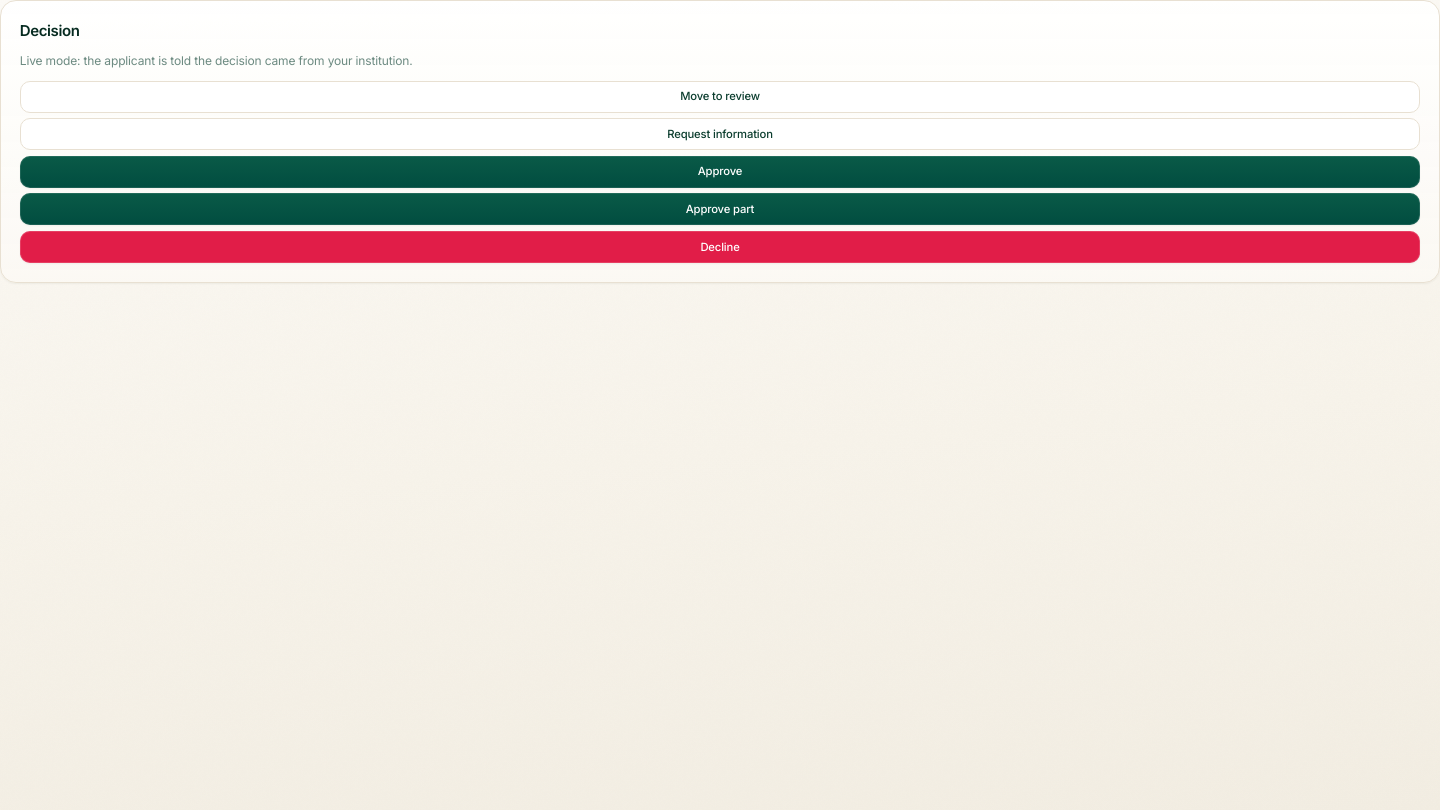
Test: the approval amount › pre-fills with what was requested, and nothing else
Click the button "Approve": (720, 172) [20,156,1420,188]
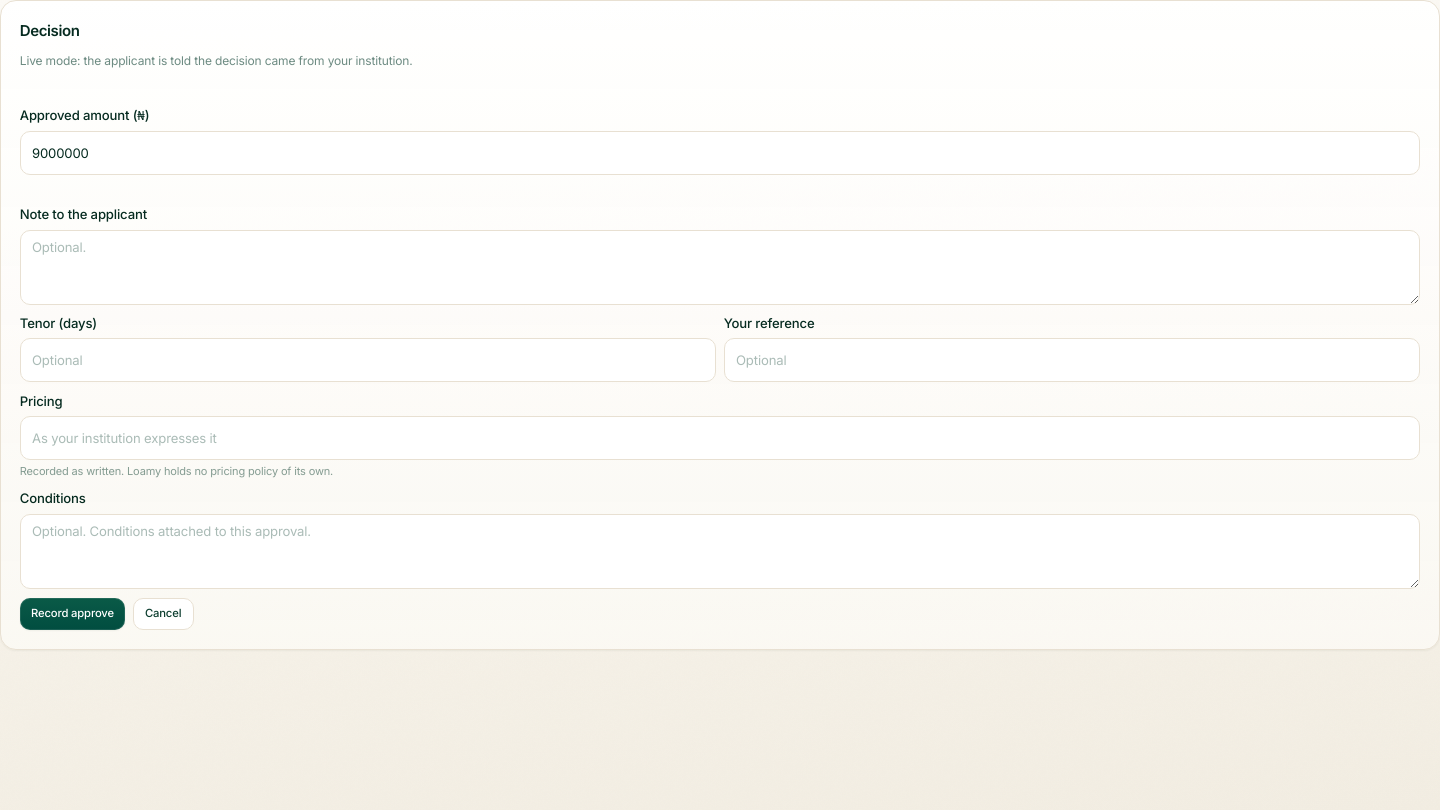
Check: the number field labelled "Approved amount (₦)" holds "9000000", box [20,131,1420,175]
